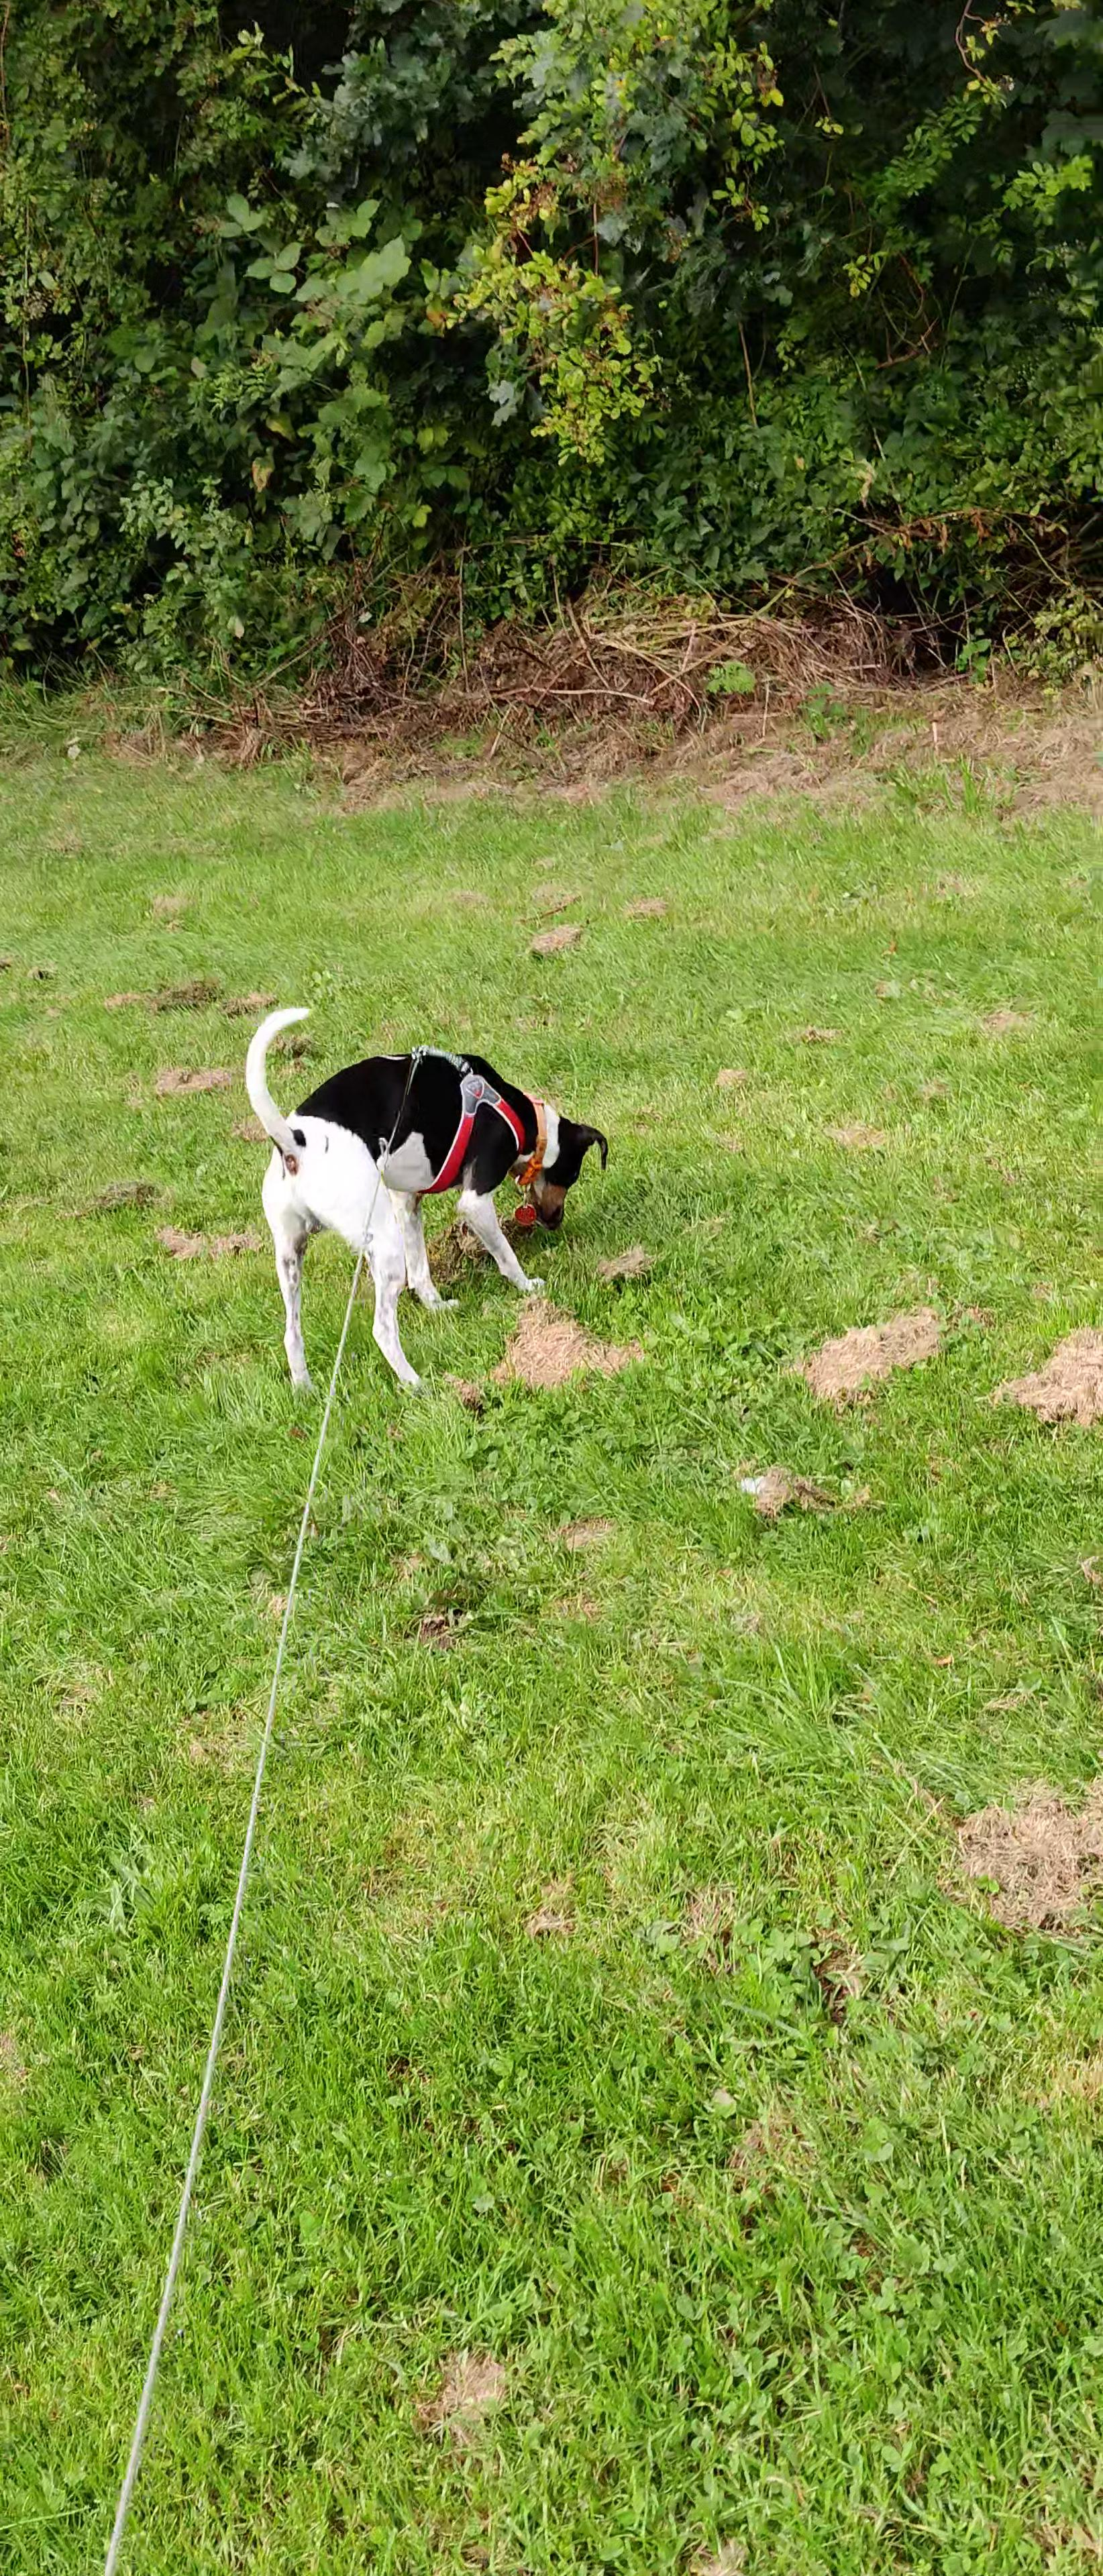Dog: (228, 974, 628, 1405)
